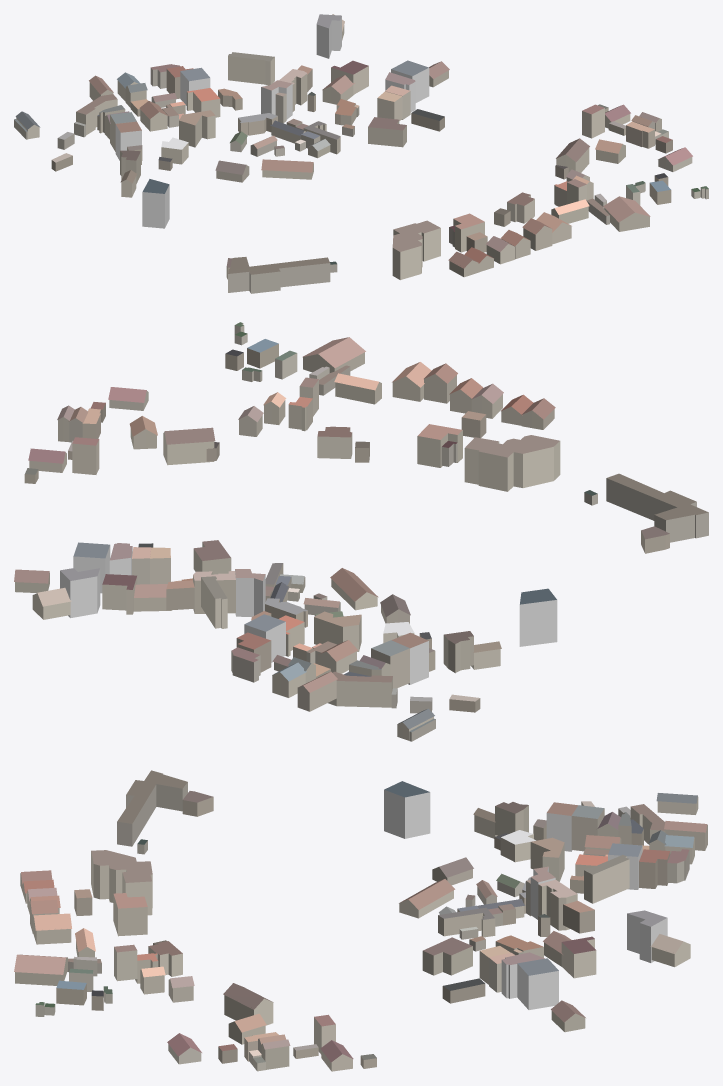
3 views of the same model, one above another, from view 1: azimuth 30°, elevation 25°; view 2: azimuth 150°, elevation 25°; view 3: azimuth 270°, elevation 25° (orthographic). The views are drawn at different scales.
Parts seen in each view (by area): view 1: tuile; view 2: tuile; view 3: tuile.
Boxes of the visible parts, x1,y1,x2,y2 form: tuile: (14,14,708,293); tuile: (14,322,708,741); tuile: (14,770,707,1071).
Size of the model in its own units: 255 by 30.62 by 265.
